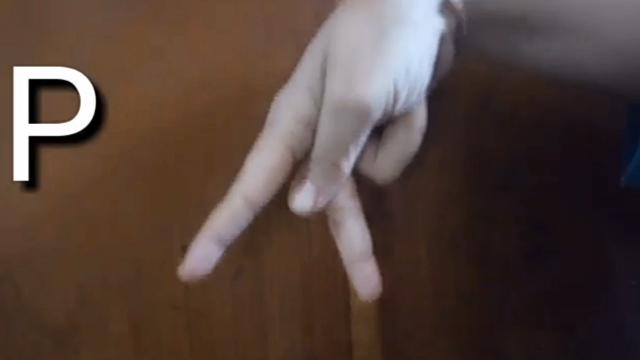P: (162, 1, 468, 313)
